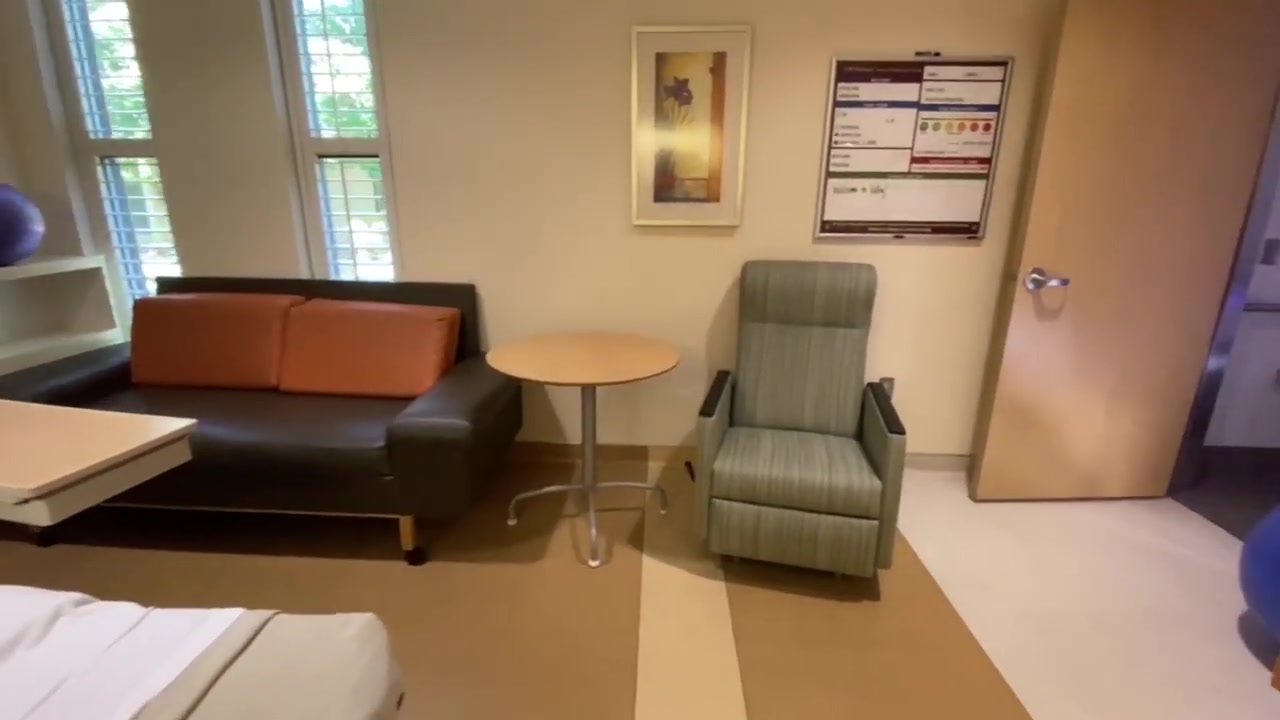door_handle: (1030, 269, 1073, 294)
hospital_bed: (5, 588, 403, 720)
overbed_table: (1, 393, 200, 525)
sofa: (5, 275, 523, 565), (688, 258, 906, 588)
table: (486, 322, 681, 567)
